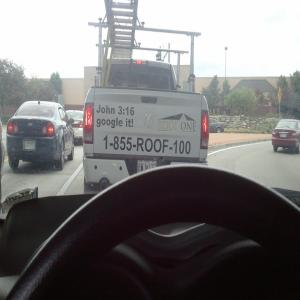Vehicle-registration-plate: (138, 162, 158, 174), (25, 141, 36, 151), (281, 134, 287, 140)
